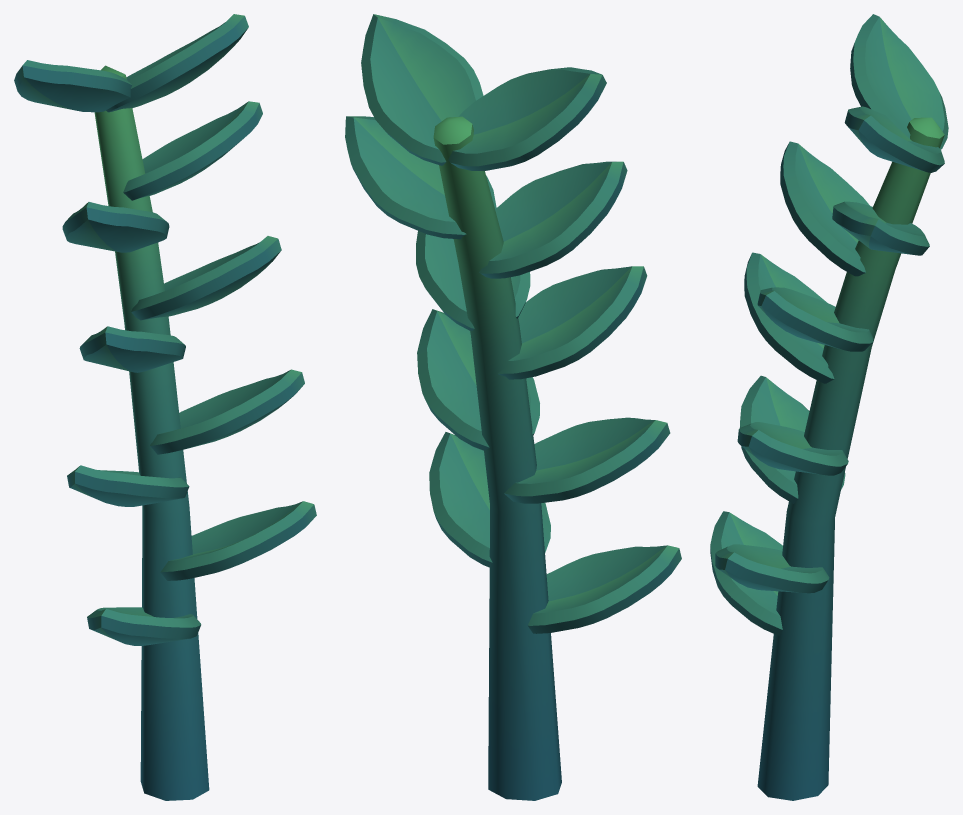
Rendered from house_plants_plants_zz_plant_leaf_rmmk3vawak.glb.
The picture shows the model from 3 angles, left to right: view 1: azimuth 30°, elevation 25°; view 2: azimuth 150°, elevation 25°; view 3: azimuth 270°, elevation 25°; orthographic projection. The views are drawn at different scales.
Parts seen in each view (by area): view 1: zzplant_leaf_large_B; view 2: zzplant_leaf_large_B; view 3: zzplant_leaf_large_B.
Boxes of the visible parts, <box> form: zzplant_leaf_large_B: <box>14,14,316,800</box>; zzplant_leaf_large_B: <box>345,14,681,800</box>; zzplant_leaf_large_B: <box>710,14,948,800</box>.
Size of the model in its own units: 0.7434 by 2.09 by 0.6282.
Materials: 1 (1 with a texture image).
